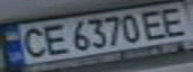0: (118, 11, 145, 44)
3: (87, 16, 109, 50)
6: (69, 17, 90, 52)
7: (103, 12, 124, 46)
C: (15, 25, 51, 60)
E: (154, 3, 193, 38), (136, 7, 175, 40), (36, 21, 69, 56)
